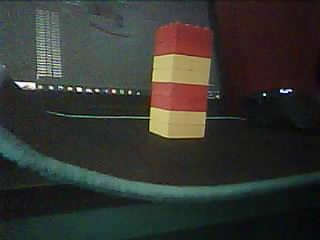lego: (148, 22, 214, 139)
